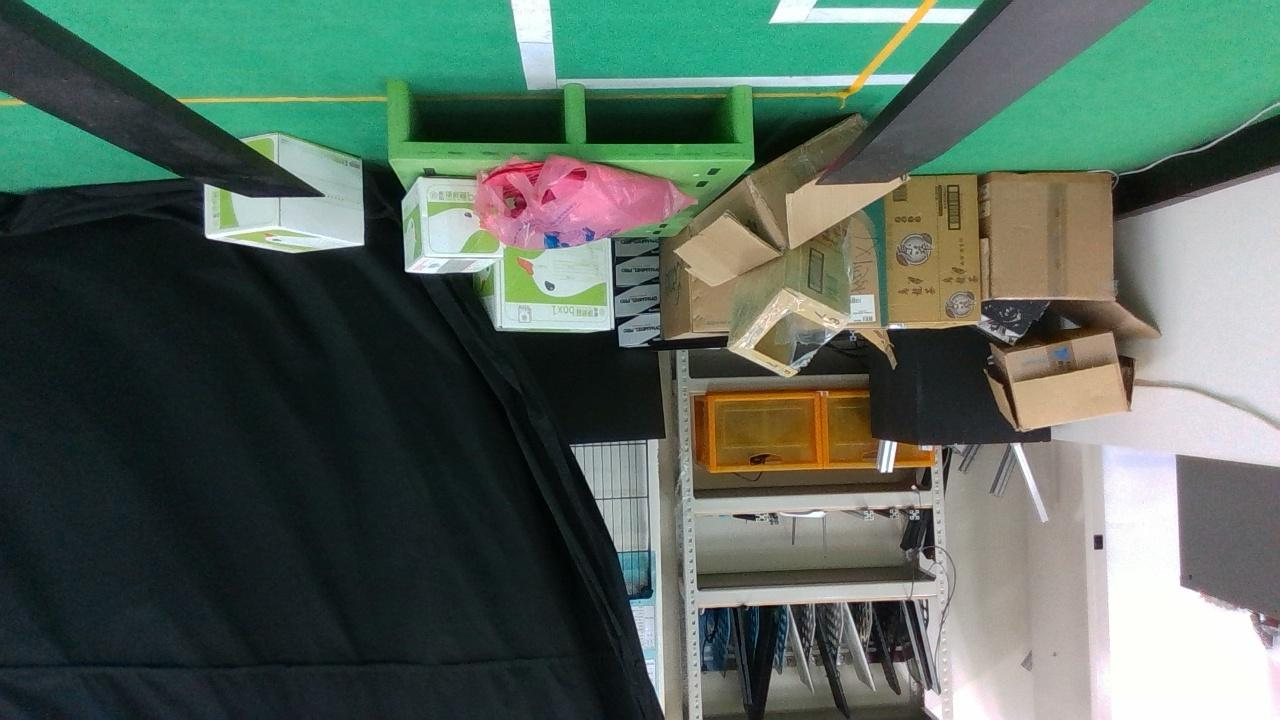Pallet: (385, 80, 753, 164)
